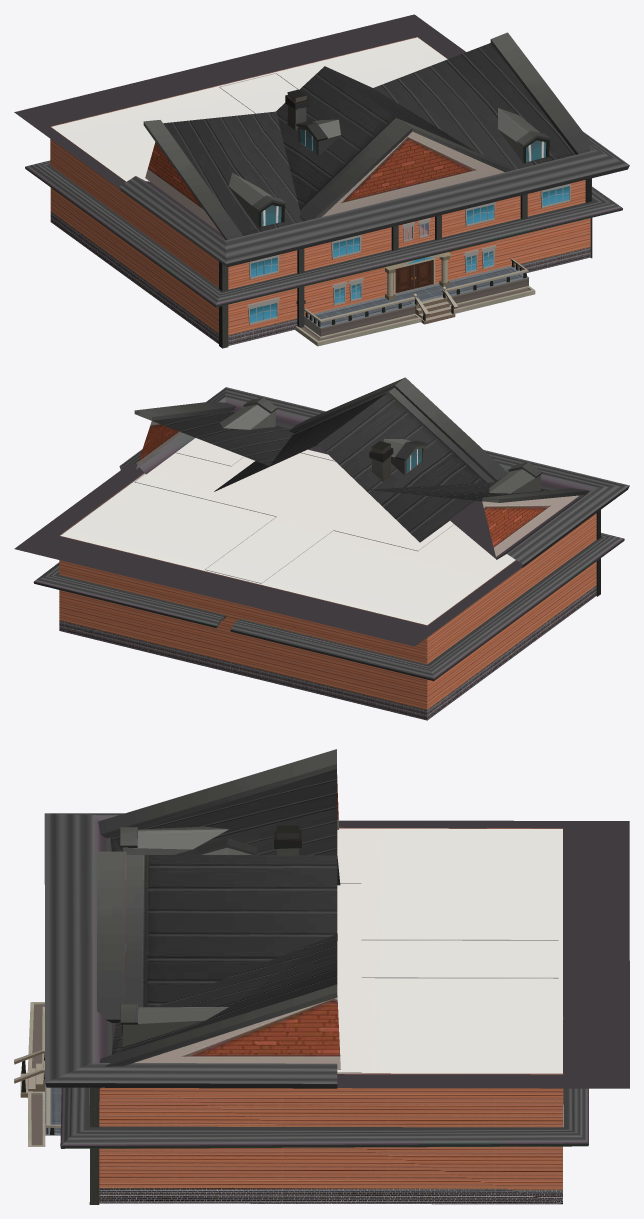
The model's file is Enviro 2.fbx.
3 renders of one model, top to bottom at view 1: azimuth 30°, elevation 25°; view 2: azimuth 150°, elevation 25°; view 3: azimuth 270°, elevation 25°, orthographic. The views are drawn at different scales.
Parts seen in each view (by area): view 1: Attic, Attic.001, Main_door_right, Main_door_left; view 2: Attic, Attic.001; view 3: Attic, Attic.001.
Boxes of the visible parts, x1=… form: Attic: x1=25, y1=32, x2=629, y2=348; Attic.001: x1=14, y1=14, x2=466, y2=188; Main_door_right: x1=414, y1=260, x2=433, y2=288; Main_door_left: x1=395, y1=264, x2=413, y2=292; Attic: x1=33, y1=377, x2=629, y2=720; Attic.001: x1=14, y1=438, x2=522, y2=646; Attic: x1=14, y1=749, x2=588, y2=1204; Attic.001: x1=337, y1=820, x2=629, y2=1088.
Size of the model in its own units: 3977 by 1616 by 3813.
8 materials, 6 textured.
